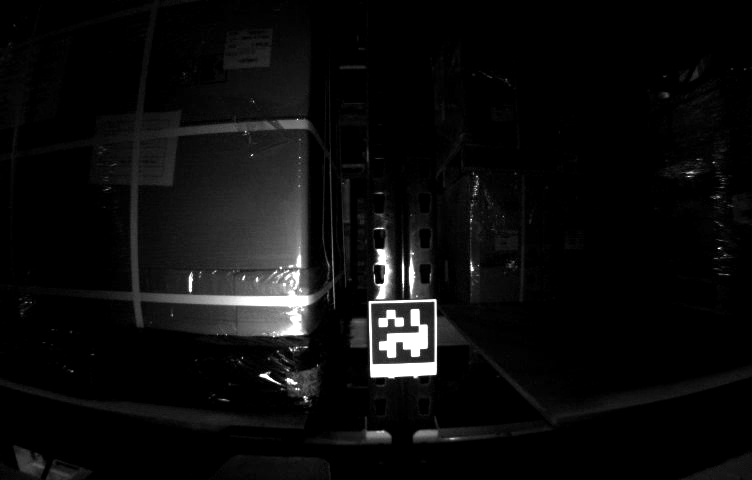True Barcode: (225, 32, 270, 67)
